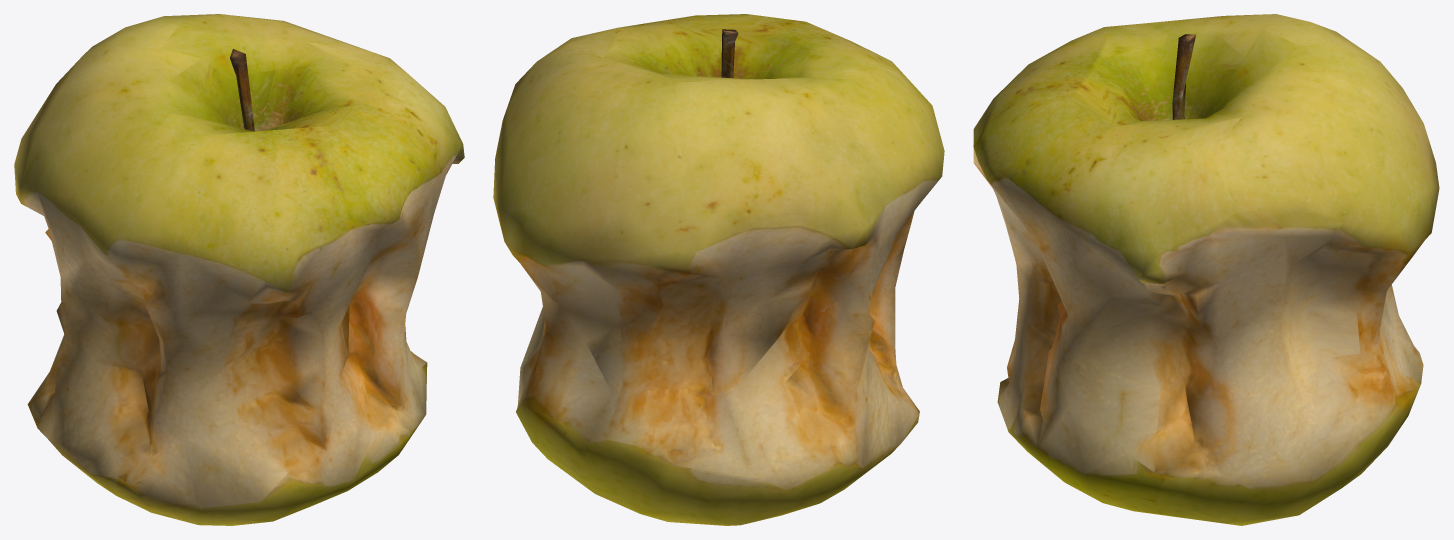
Rendered from bitten_apple_midX5.obj.
The picture shows the model from 3 angles, left to right: view 1: azimuth 30°, elevation 25°; view 2: azimuth 150°, elevation 25°; view 3: azimuth 270°, elevation 25°; orthographic projection. The views are drawn at different scales.
Parts seen in each view (by area): view 1: tgyociqpa_LOD0_TIER2_000; view 2: tgyociqpa_LOD0_TIER2_000; view 3: tgyociqpa_LOD0_TIER2_000.
Part boxes in pixels (x1,y1,x2,y2): tgyociqpa_LOD0_TIER2_000: [14, 14, 464, 525]; tgyociqpa_LOD0_TIER2_000: [493, 14, 944, 525]; tgyociqpa_LOD0_TIER2_000: [973, 14, 1439, 525].
Size of the model in its own units: 0.8187 by 0.8991 by 0.841.
1 material, 1 textured.
